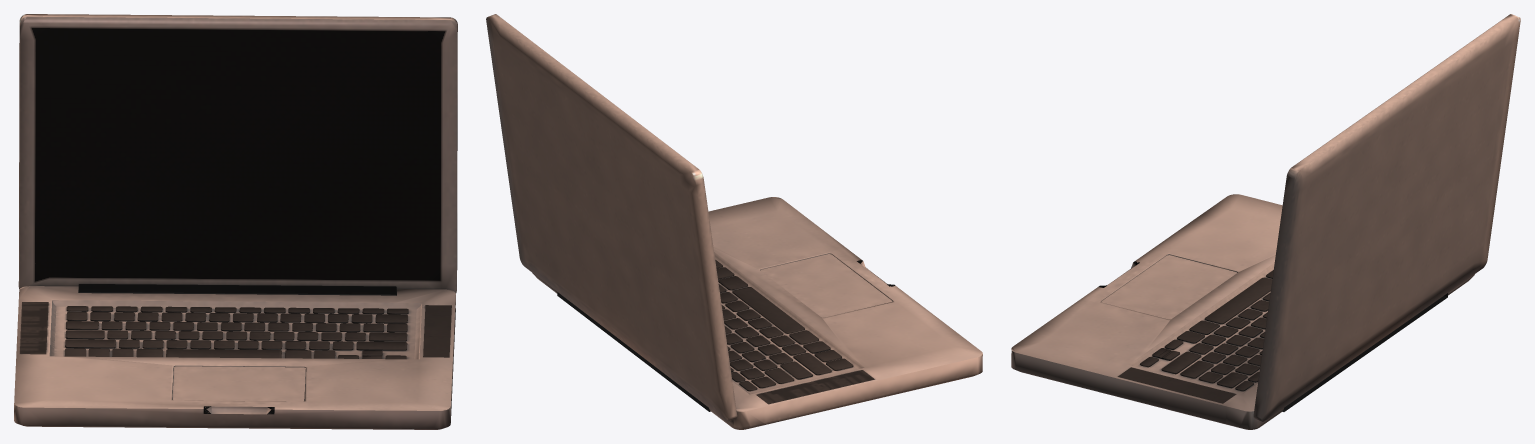
Rendered from laptop.fbx.
3 views of the same model, side by side, from view 1: azimuth 30°, elevation 25°; view 2: azimuth 150°, elevation 25°; view 3: azimuth 270°, elevation 25° (orthographic).
Parts seen in each view (by area): view 1: laptop; view 2: laptop; view 3: laptop.
Boxes of the visible parts, left/top/right/bottom form: laptop: left=14, top=14, right=457, bottom=429; laptop: left=486, top=14, right=982, bottom=429; laptop: left=1011, top=14, right=1520, bottom=429.
Size of the model in its own units: 45.59 by 25.24 by 42.7.
Materials: 1 (1 with a texture image).
